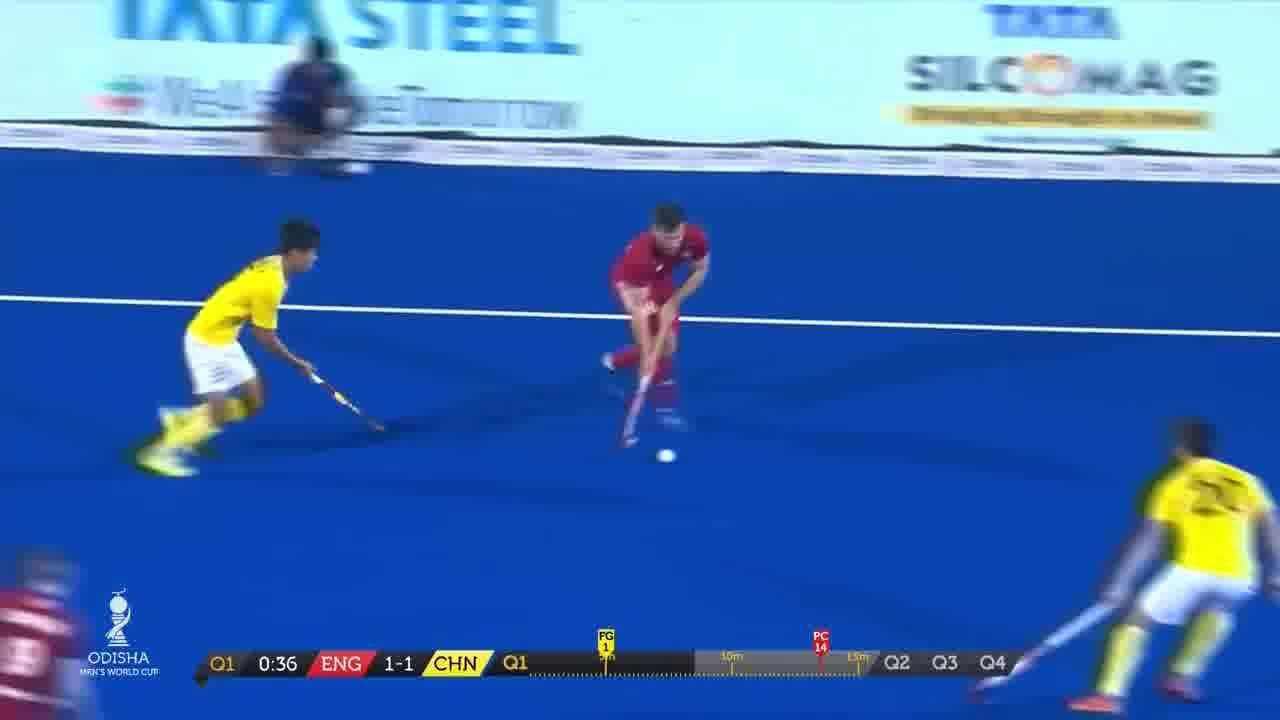ball: (654, 440, 680, 470)
